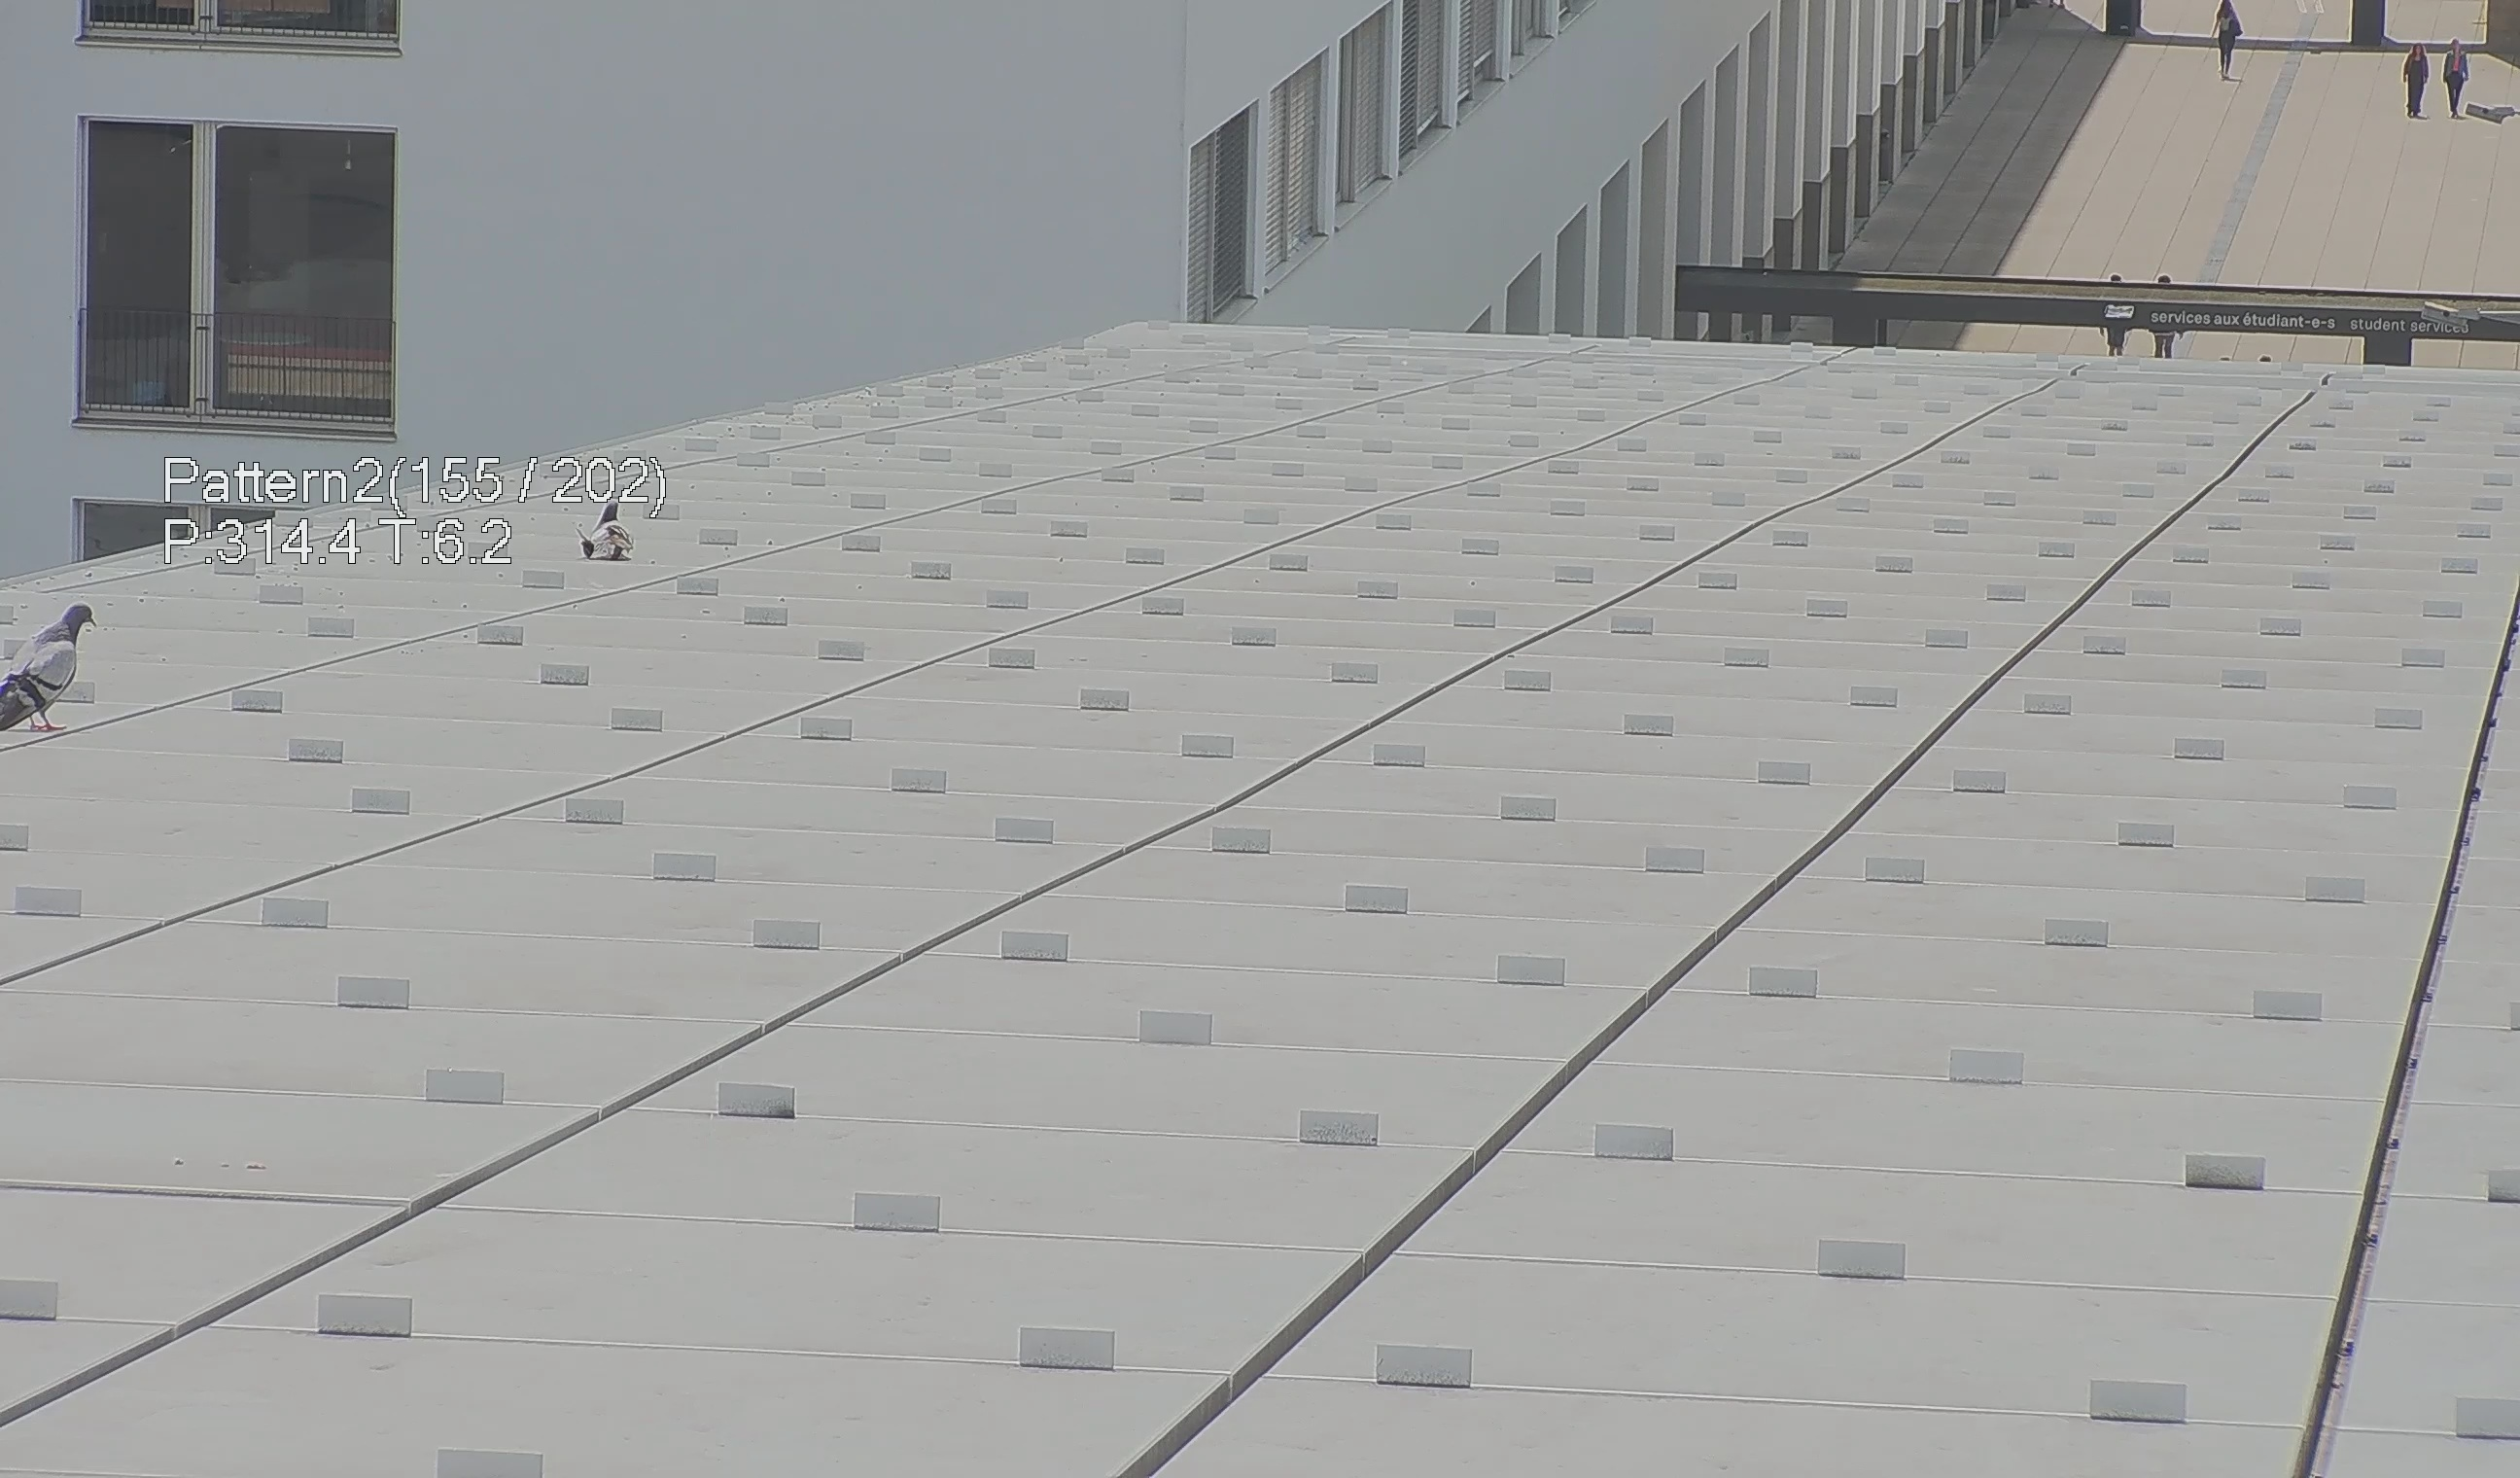Pigeon: (5, 595, 114, 737), (573, 500, 640, 570)
